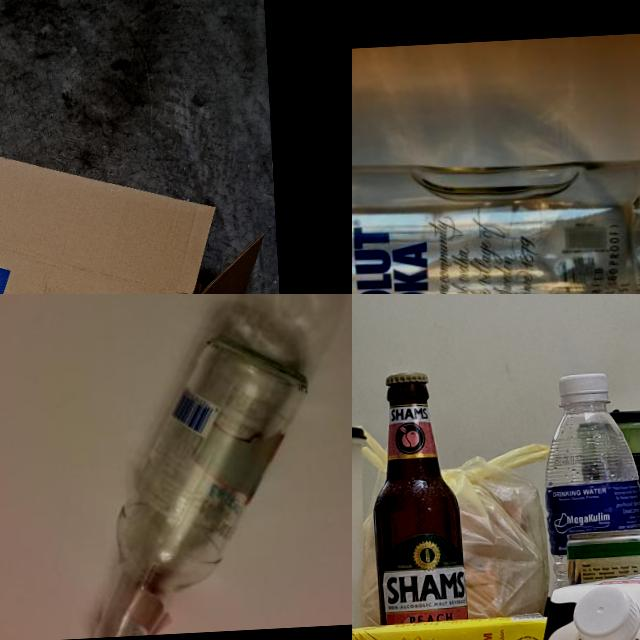caixinha: (532, 557, 640, 640)
garrafa de vidro: (79, 335, 321, 638), (352, 147, 640, 294), (364, 371, 472, 640)
garrafa plástica: (543, 407, 640, 611)
lata: (565, 519, 640, 608)
papelão: (0, 130, 284, 294)
tampa plástica: (571, 580, 637, 640), (557, 372, 610, 409)
